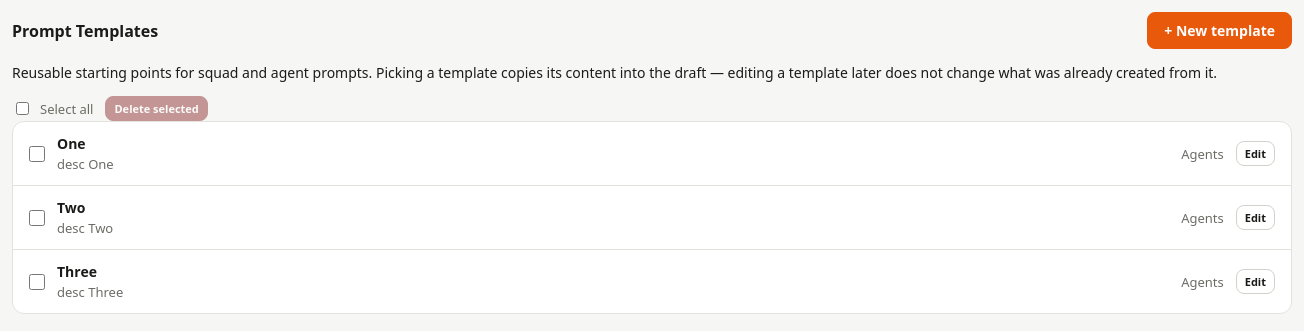
it: selection + bulk delete › select-all checks every row and enables the bulk delete
expect the button with aria-label "Delete 0 selected templates" is disabled: met, box x1=106 y1=96 x2=208 y2=121
Step 1. Click the checkbox named "Select all templates" → (22, 108), box x1=16 y1=102 x2=29 y2=115
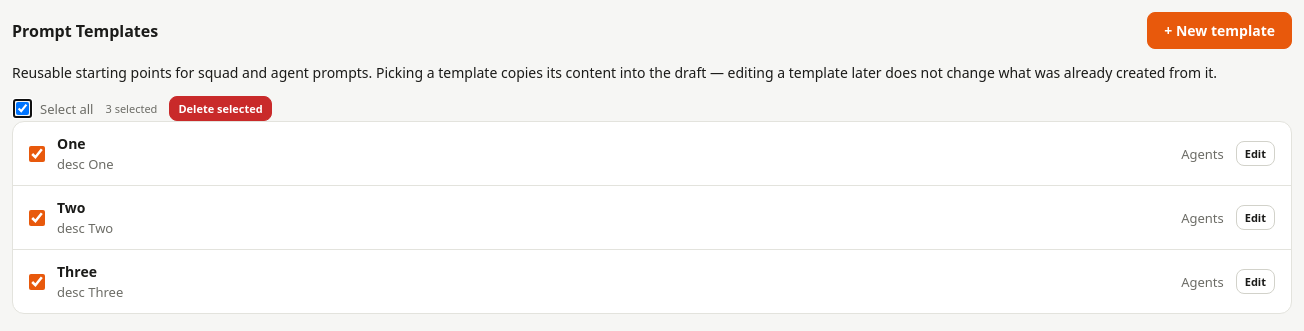
expect the checkbox named "Select template One" is checked: met, box x1=29 y1=146 x2=45 y2=162
expect the checkbox named "Select template Three" is checked: met, box x1=29 y1=274 x2=45 y2=290
expect the text "3 selected" is shown: met, box x1=106 y1=101 x2=157 y2=116
